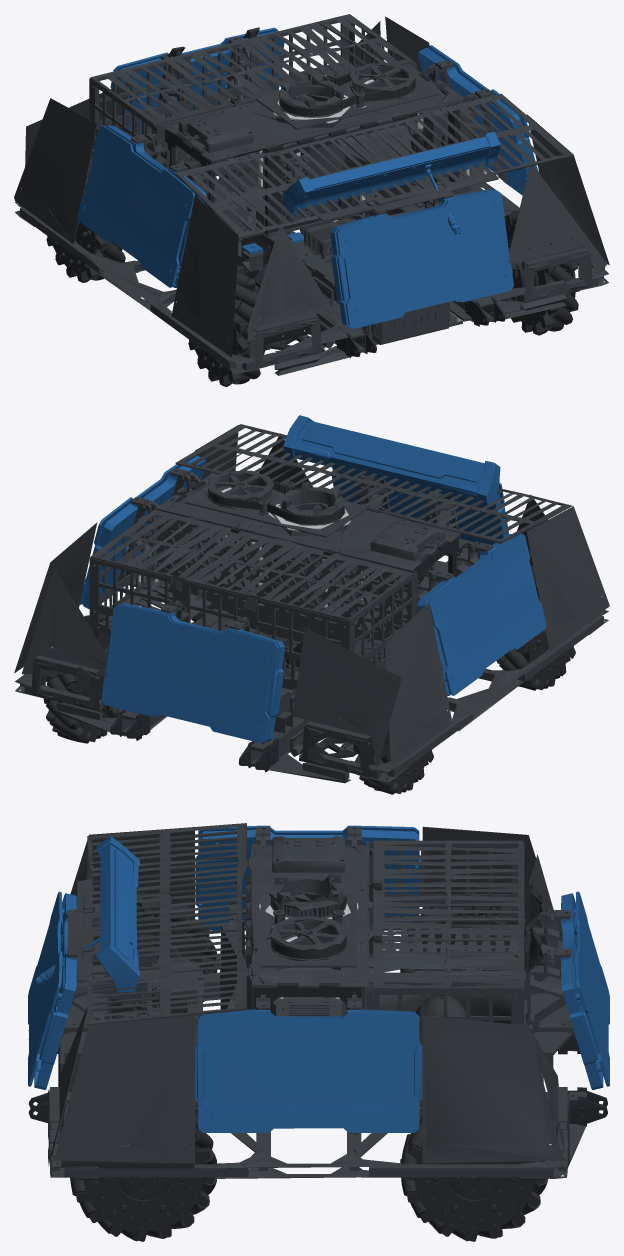
The model's file is hero.glb.
3 renders of one model, top to bottom at view 1: azimuth 30°, elevation 25°; view 2: azimuth 150°, elevation 25°; view 3: azimuth 270°, elevation 25°, orthographic. The views are drawn at different scales.
Visible parts, largest first — view 1: hero_static; view 2: hero_static; view 3: hero_static.
Part boxes in pixels (box(x1,y1,x2,y2)): hero_static: box(14, 14, 609, 386); hero_static: box(14, 415, 609, 794); hero_static: box(28, 823, 609, 1241).
Bounding box in the file's own units: 0.5313 × 0.3041 × 0.6195.
